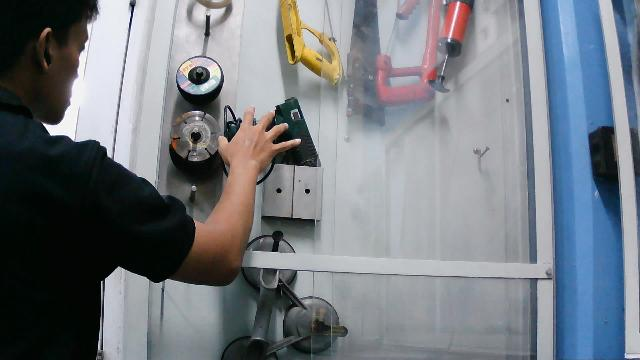gun_lem: (217, 91, 325, 180)
